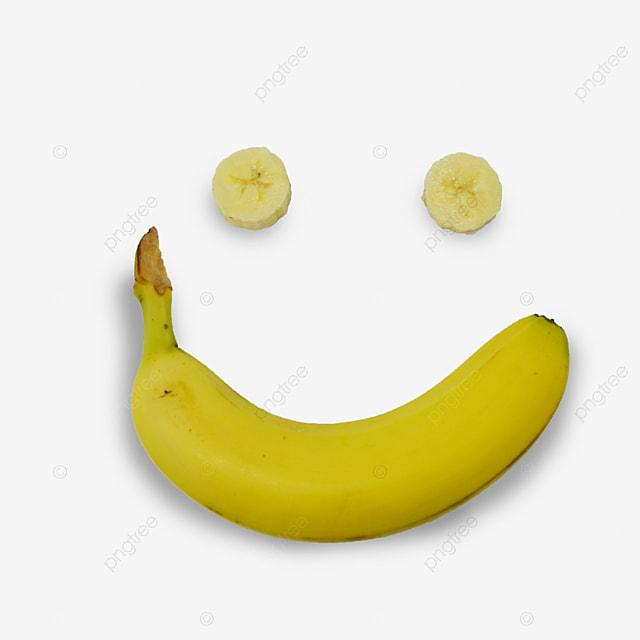non_orange: (124, 222, 574, 548)
